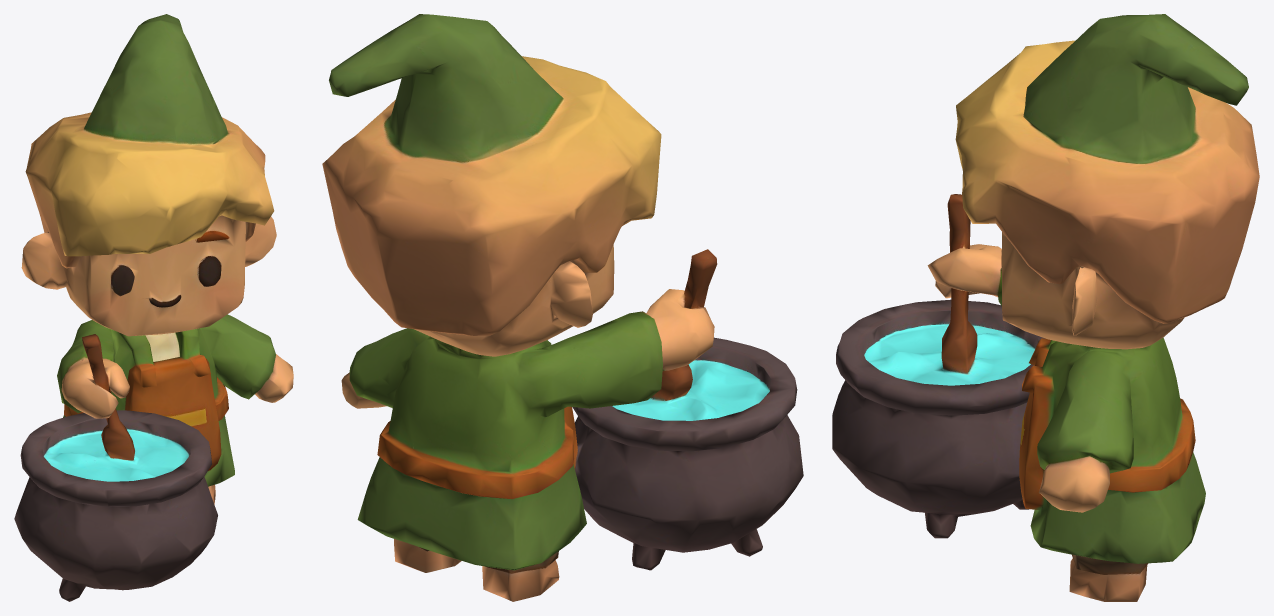
The model's file is alchemist.glb.
3 views of the same model, side by side, from view 1: azimuth 30°, elevation 25°; view 2: azimuth 150°, elevation 25°; view 3: azimuth 270°, elevation 25° (orthographic). The views are drawn at different scales.
Parts seen in each view (by area): view 1: tripo_node_ed0ed8eb-1c71-4ef1-b96a-9d027d5f9160; view 2: tripo_node_ed0ed8eb-1c71-4ef1-b96a-9d027d5f9160; view 3: tripo_node_ed0ed8eb-1c71-4ef1-b96a-9d027d5f9160.
Boxes of the visible parts, left/top/right/bottom form: tripo_node_ed0ed8eb-1c71-4ef1-b96a-9d027d5f9160: left=14, top=14, right=293, bottom=601; tripo_node_ed0ed8eb-1c71-4ef1-b96a-9d027d5f9160: left=322, top=14, right=803, bottom=601; tripo_node_ed0ed8eb-1c71-4ef1-b96a-9d027d5f9160: left=832, top=14, right=1259, bottom=601.
Size of the model in its own units: 0.7014 by 1 by 0.6851.
1 material, 1 textured.
